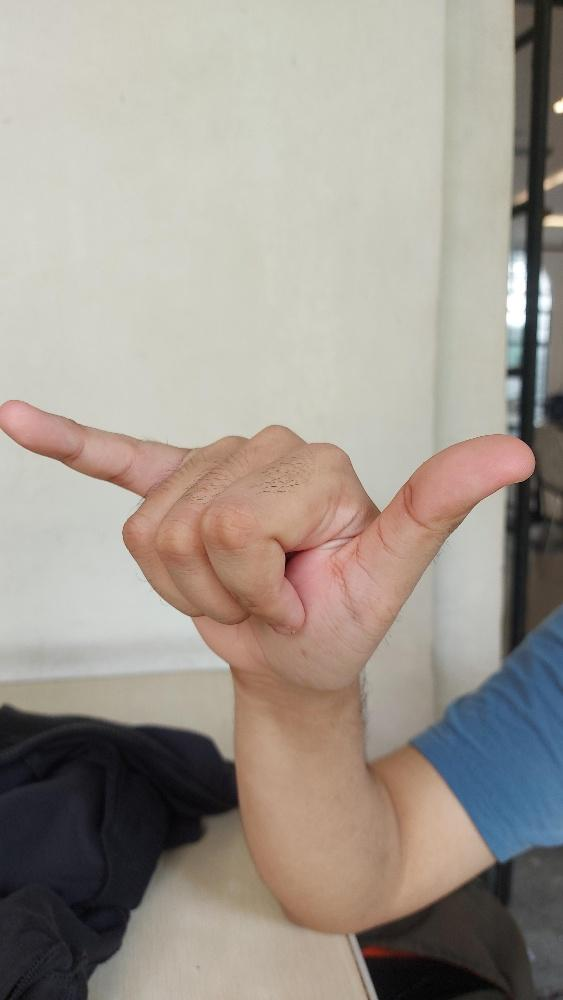y: (0, 398, 535, 691)
